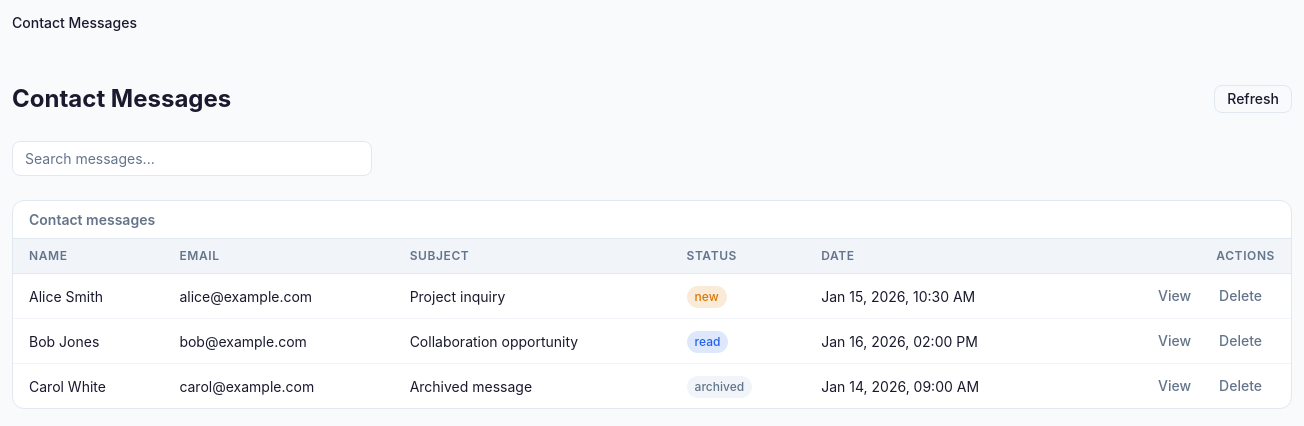
Test: ContactMessagesPage › shows "Try adjusting your search terms" when search yields no results
Type "nonexistent" into the search field labelled "Search messages..." at point(192, 158), box [12,141,372,176]
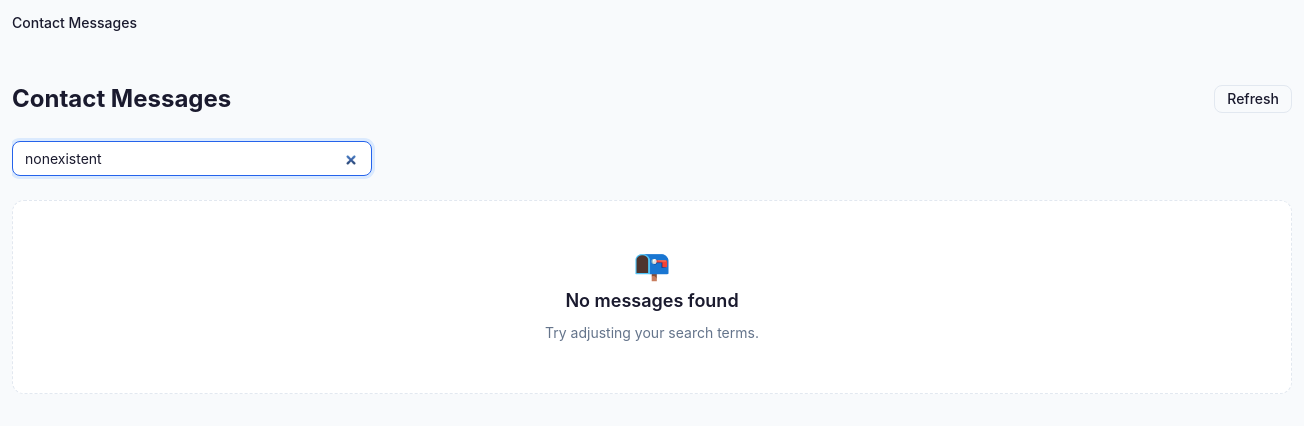
Expected: the heading "No messages found" is shown, [565,287,739,314]
Expected: the text "Try adjusting your search terms." is shown, [545,322,759,345]
